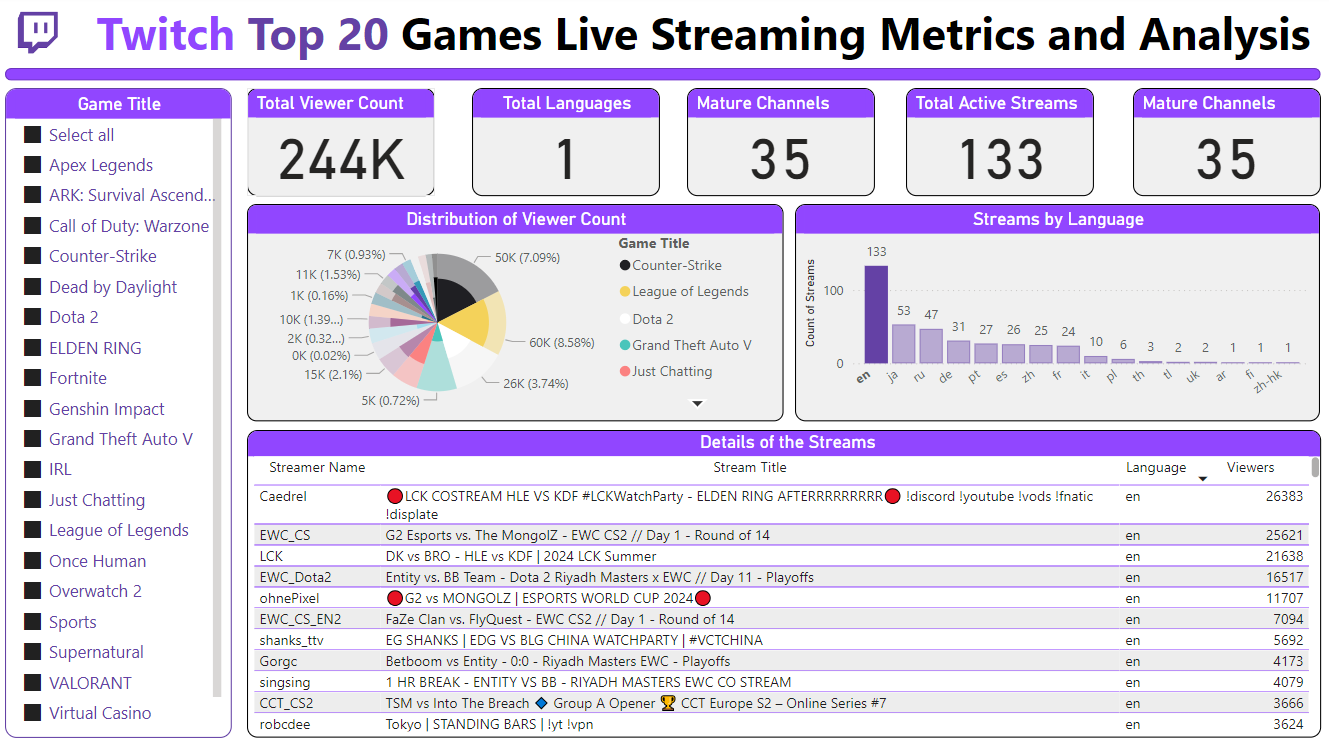

The page's visual inventory and layout, read from the dashboard file:
{"tool":"powerbi","page":{"name":"Page 1","canvas":[1280,720],"ordinal":0},"visuals":[{"type":"shape","title":"Twitch","box":[10,68.9,1253,12],"z":0},{"type":"textbox","box":[78,0,1193.5,68.3],"z":1000},{"type":"image","box":[9.6,0,61.8,68.7],"z":2000},{"type":"card","title":"Total Active Streams","fields":{"Values":["streams_data.user_name"]},"box":[867.3,87.9,178.9,102.9],"z":3000},{"type":"card","title":"Total Viewer Count","fields":{"Values":["streams_data.Total Viewer Count"]},"box":[239.8,87.9,178.9,102.9],"z":4000},{"type":"card","title":"Total Languages","fields":{"Values":["streams_data.language"]},"box":[454.6,87.9,178.9,102.9],"z":5000},{"type":"card","title":"Mature Channels","fields":{"Values":["streams_data.is_mature"]},"box":[659.5,87.9,178.9,102.9],"z":6000},{"type":"slicer","title":"Game Title","fields":{"Values":["streams_data.game_name"]},"box":[10,87.9,215.8,618.5],"z":7000},{"type":"tableEx","title":"Details of the Streams","fields":{"Values":["streams_data.user_name","streams_data.title","streams_data.language","streams_data.viewer_count"]},"box":[240.4,413.4,1022.8,293.3],"z":8000},{"type":"pieChart","title":"Distribution of Viewer Count","fields":{"Category":["streams_data.game_name"],"Y":["streams_data.viewer_count"]},"box":[240.4,198.3,510.8,206.7],"z":8001},{"type":"card","title":"Mature Channels","fields":{"Values":["streams_data.is_mature"]},"box":[1084.2,87.9,178.9,102.9],"z":8002},{"type":"clusteredColumnChart","title":"Streams by Language","fields":{"Category":["streams_data.language"],"Y":["streams_data.user_name"]},"box":[762,198.3,500,206.7],"z":8003}]}

Visuals, with their boxes in screenshot pixels (x1, y1, x2, y2), scaled from the page's 1280x720 canvas onto the 1329x746 screenshot:
"Twitch" shape: rect(10, 71, 1311, 84)
textbox: rect(81, 0, 1320, 71)
image: rect(10, 0, 74, 71)
"Total Active Streams" card: rect(901, 91, 1086, 198)
"Total Viewer Count" card: rect(249, 91, 435, 198)
"Total Languages" card: rect(472, 91, 658, 198)
"Mature Channels" card: rect(685, 91, 870, 198)
"Game Title" slicer: rect(10, 91, 234, 732)
"Details of the Streams" tableEx: rect(250, 428, 1312, 732)
"Distribution of Viewer Count" pieChart: rect(250, 205, 780, 420)
"Mature Channels" card: rect(1126, 91, 1311, 198)
"Streams by Language" clusteredColumnChart: rect(791, 205, 1310, 420)
